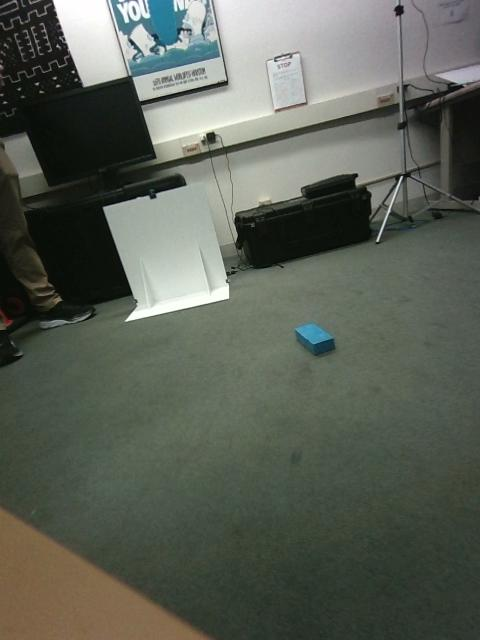block: (362, 429, 478, 509)
